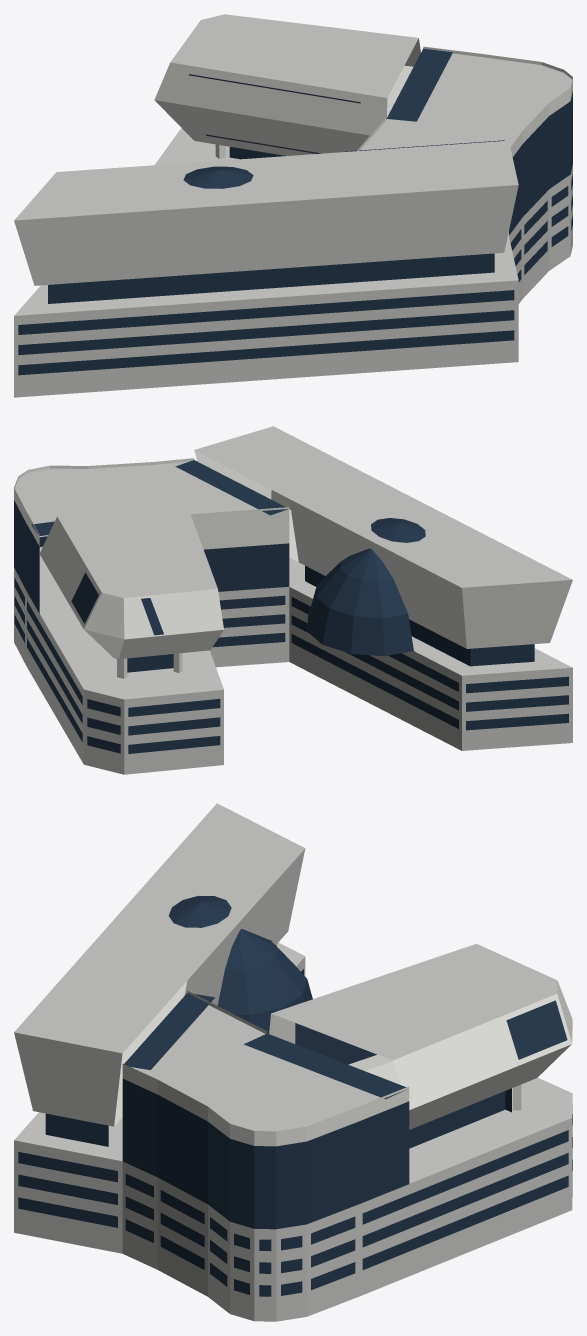
The model's file is galereya.lod.glb.
3 renders of one model, top to bottom at view 1: azimuth 30°, elevation 25°; view 2: azimuth 150°, elevation 25°; view 3: azimuth 270°, elevation 25°, orthographic. The views are drawn at different scales.
Parts seen in each view (by area): view 1: galereya_wall, galereya_roof, galereya_wall2, galereya_glass; view 2: galereya_wall2, galereya_roof, galereya_glass, galereya_wall; view 3: galereya_glass, galereya_roof, galereya_wall2, galereya_wall.
Part boxes in pixels (x1,y1,x2,y2): galereya_wall: (14,38,572,285); galereya_roof: (14,14,572,220); galereya_wall2: (14,128,572,397); galereya_glass: (18,48,572,375); galereya_wall2: (14,546,572,774); galereya_roof: (14,426,572,597); galereya_glass: (14,460,568,753); galereya_wall: (14,450,572,678); galereya_glass: (18,895,572,1296); galereya_roof: (14,803,557,1131); galereya_wall2: (14,942,572,1321); galereya_wall: (14,849,572,1146).
Bounding box in the file's own units: 150 × 46 × 111.
